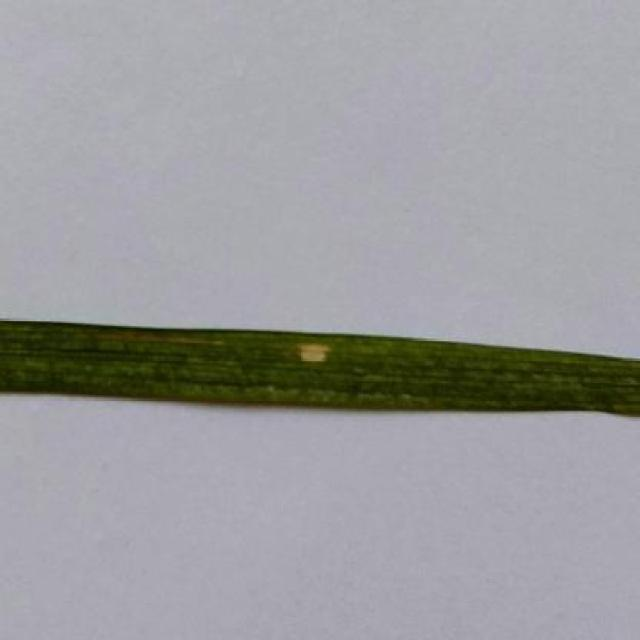Bacterial_Leaf_Blight: (288, 323, 343, 366)
